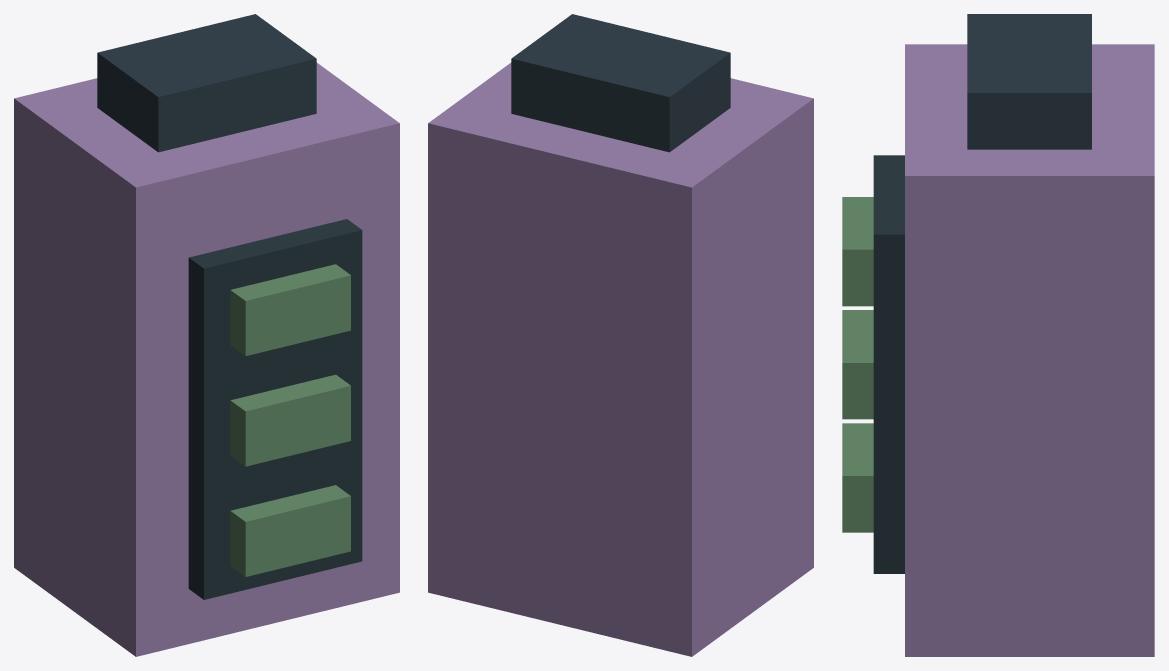
Rendered from crypto-16.glb.
3 views of the same model, side by side, from view 1: azimuth 30°, elevation 25°; view 2: azimuth 150°, elevation 25°; view 3: azimuth 270°, elevation 25° (orthographic). The views are drawn at different scales.
Visible parts, largest first — view 1: Gas battery; view 2: Gas battery; view 3: Gas battery.
Boxes of the visible parts, box(x1,y1,x2,y2) form: Gas battery: box(14, 14, 399, 656); Gas battery: box(428, 14, 813, 656); Gas battery: box(842, 14, 1154, 656).
Bounding box in the file's own units: 0.8 × 1.52 × 0.8.
